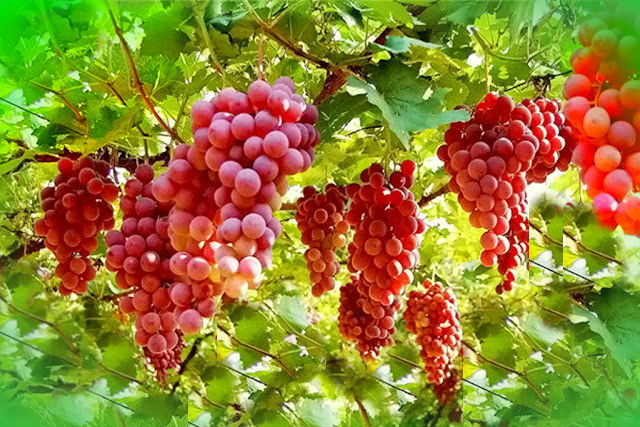Red Grapes: (459, 99, 538, 279), (216, 82, 277, 295), (348, 167, 417, 313)
